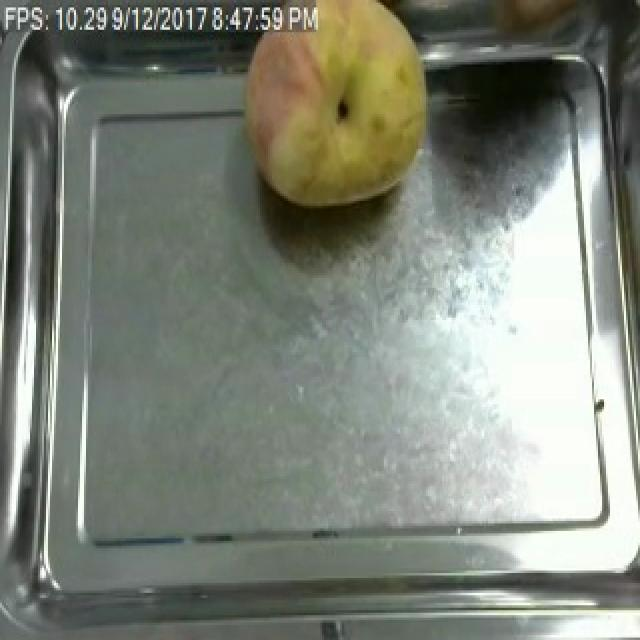Fruit: (232, 0, 442, 218)
